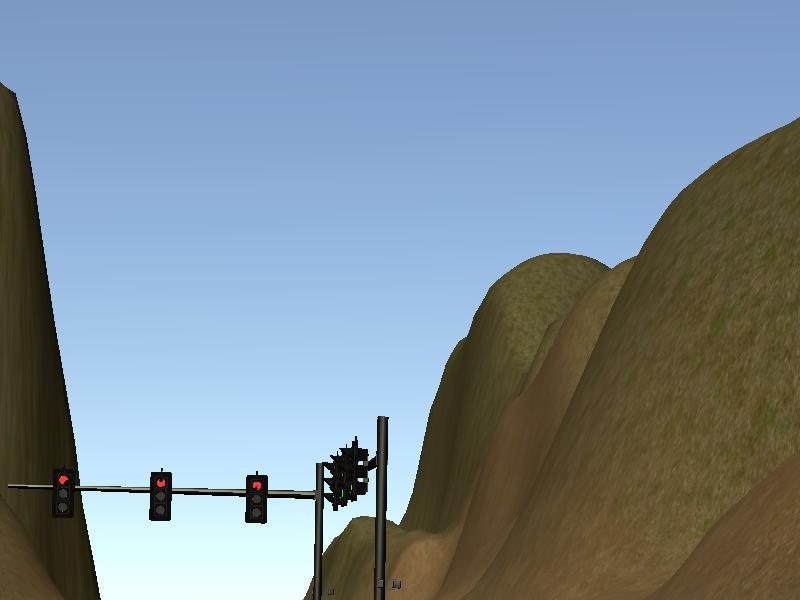traffic_light_red: (38, 465, 315, 527)
